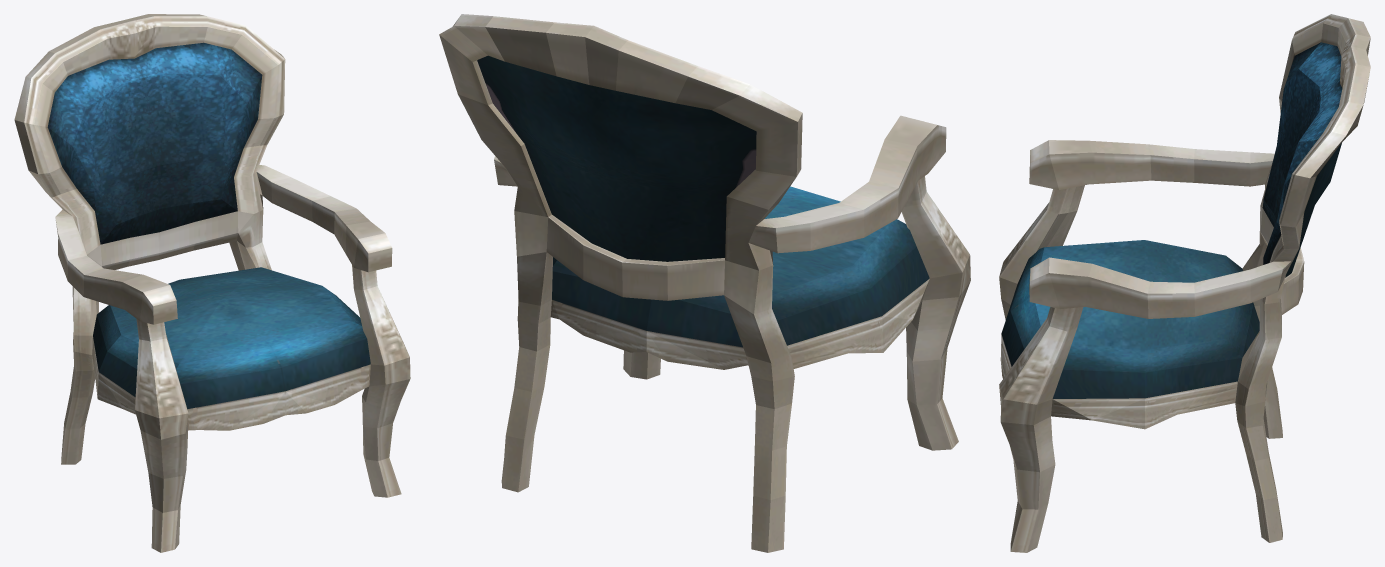
File: furni_0201111_03.FBX
The picture shows the model from 3 angles, left to right: view 1: azimuth 30°, elevation 25°; view 2: azimuth 150°, elevation 25°; view 3: azimuth 270°, elevation 25°; orthographic projection. The views are drawn at different scales.
Parts seen in each view (by area): view 1: furni_0201111_03; view 2: furni_0201111_03; view 3: furni_0201111_03.
Part boxes in pixels (bbox=[...]): furni_0201111_03: bbox=[14, 14, 410, 552]; furni_0201111_03: bbox=[439, 14, 970, 552]; furni_0201111_03: bbox=[999, 14, 1370, 552].
Size of the model in its own units: 74.31 by 102 by 78.08.
1 material, 1 textured.
